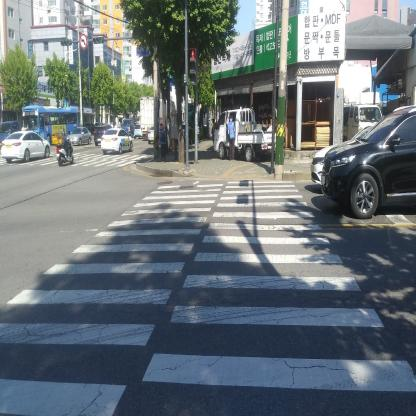Red: (188, 48, 198, 86)
